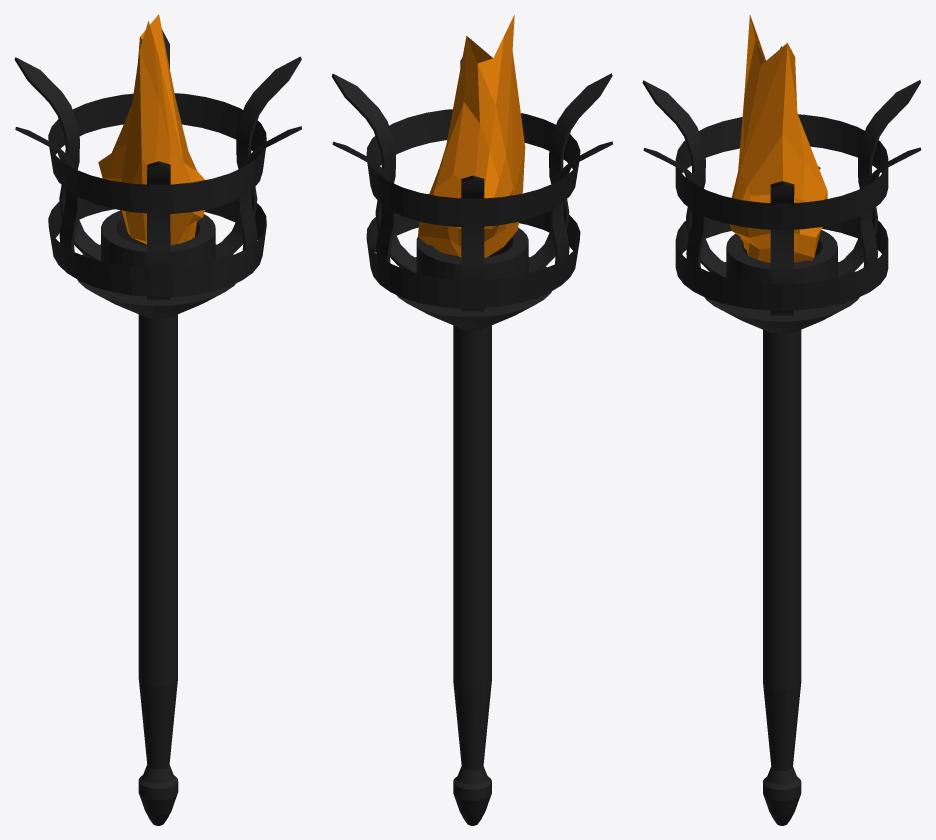
The model's file is Torch.fbx.
3 views of the same model, side by side, from view 1: azimuth 30°, elevation 25°; view 2: azimuth 150°, elevation 25°; view 3: azimuth 270°, elevation 25° (orthographic). The views are drawn at different scales.
Visible parts, largest first — view 1: Cube, Cylinder, Plane, Cube.001, Cylinder.001; view 2: Cube, Cube.001, Plane, Cylinder, Cylinder.001; view 3: Cube, Cube.001, Cylinder, Plane, Cylinder.001.
Boxes of the visible parts, <box> form: Cube: <box>77,210,236,825</box>; Cylinder: <box>48,93,266,213</box>; Plane: <box>14,30,301,300</box>; Cube.001: <box>98,14,204,245</box>; Cylinder.001: <box>48,198,266,297</box>; Cube: <box>396,228,551,825</box>; Cube.001: <box>418,14,525,257</box>; Plane: <box>331,57,612,311</box>; Cylinder: <box>366,109,580,226</box>; Cylinder.001: <box>366,194,580,308</box>; Cube: <box>704,229,859,825</box>; Cube.001: <box>729,15,827,262</box>; Cylinder: <box>675,114,888,229</box>; Plane: <box>642,46,921,315</box>; Cylinder.001: <box>675,217,888,310</box>.
Size of the model in its own units: 315 by 860 by 273.
